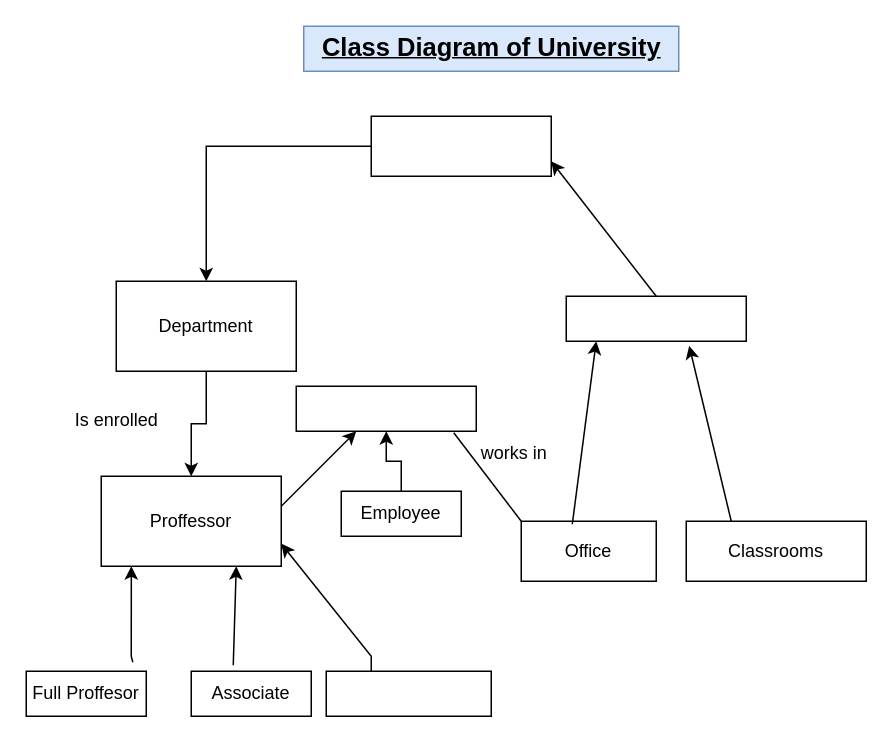
The diagram is 893 pixels wide and 743 high, and some of its shapes have lost their labels. Each missing label, with the box of its shape:
Assistant: (325, 670, 491, 716)
Person: (295, 385, 476, 431)
Rooms: (565, 295, 746, 341)
University: (370, 115, 551, 176)
